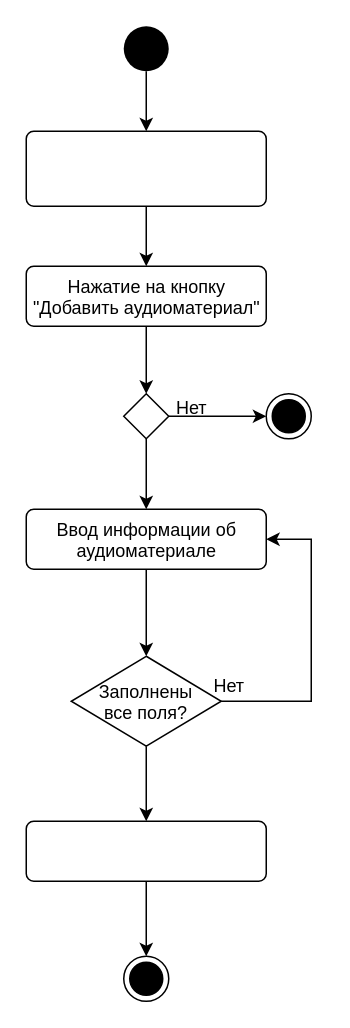
This 350x1028 diagram has some shape labels left out. The shapes that lost their labels are listed below. From the top down, each one's box as (x1, y1, x2, y2) in pixels, then its label:
(25, 130, 266, 206): Отображение персональной страницы
(25, 820, 266, 881): Вывод сообщения об успешном добавлении
